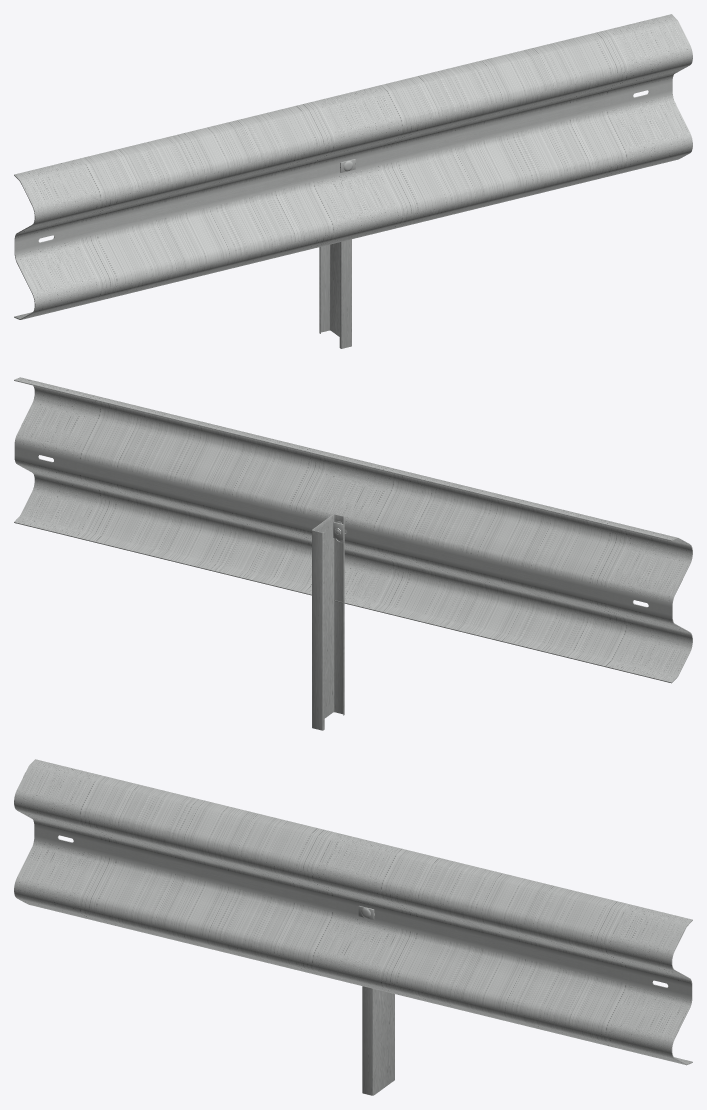
File: barriery.gltf
The picture shows the model from 3 angles, top to bottom: view 1: azimuth 30°, elevation 25°; view 2: azimuth 150°, elevation 25°; view 3: azimuth 330°, elevation 25°; orthographic projection.
Visible parts, largest first — view 1: Plane.002; view 2: Plane.002; view 3: Plane.002.
Part boxes in pixels (<box>): Plane.002: <box>14,14,692,348</box>; Plane.002: <box>14,377,692,730</box>; Plane.002: <box>14,759,692,1095</box>.
Bounding box in the file's own units: 2.04 × 0.7523 × 0.2316.
1 material, 1 textured.
